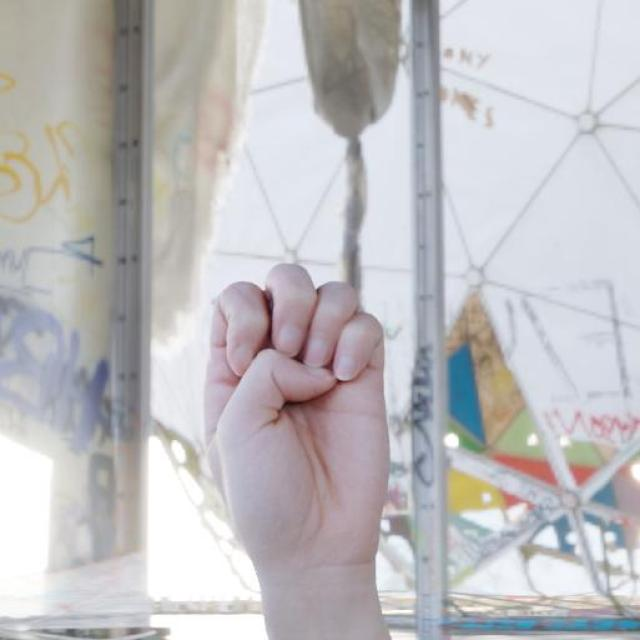E: (202, 258, 392, 568)
